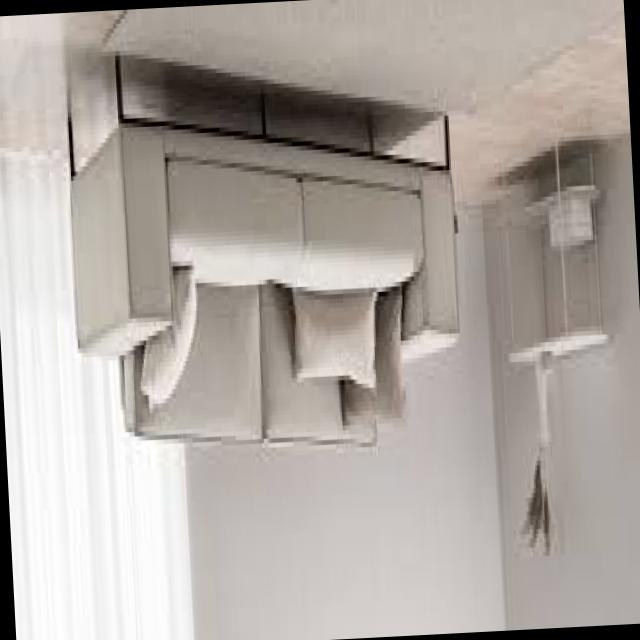Sofa: (38, 32, 488, 486)
